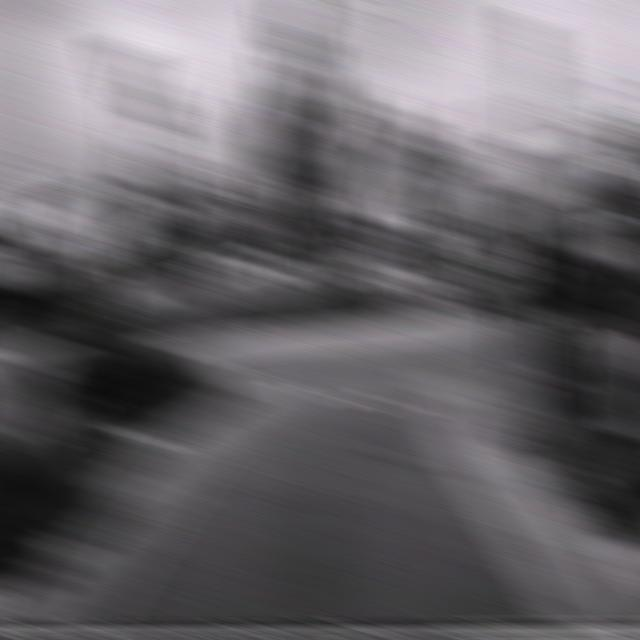yield: (92, 38, 159, 124), (478, 138, 541, 215)
